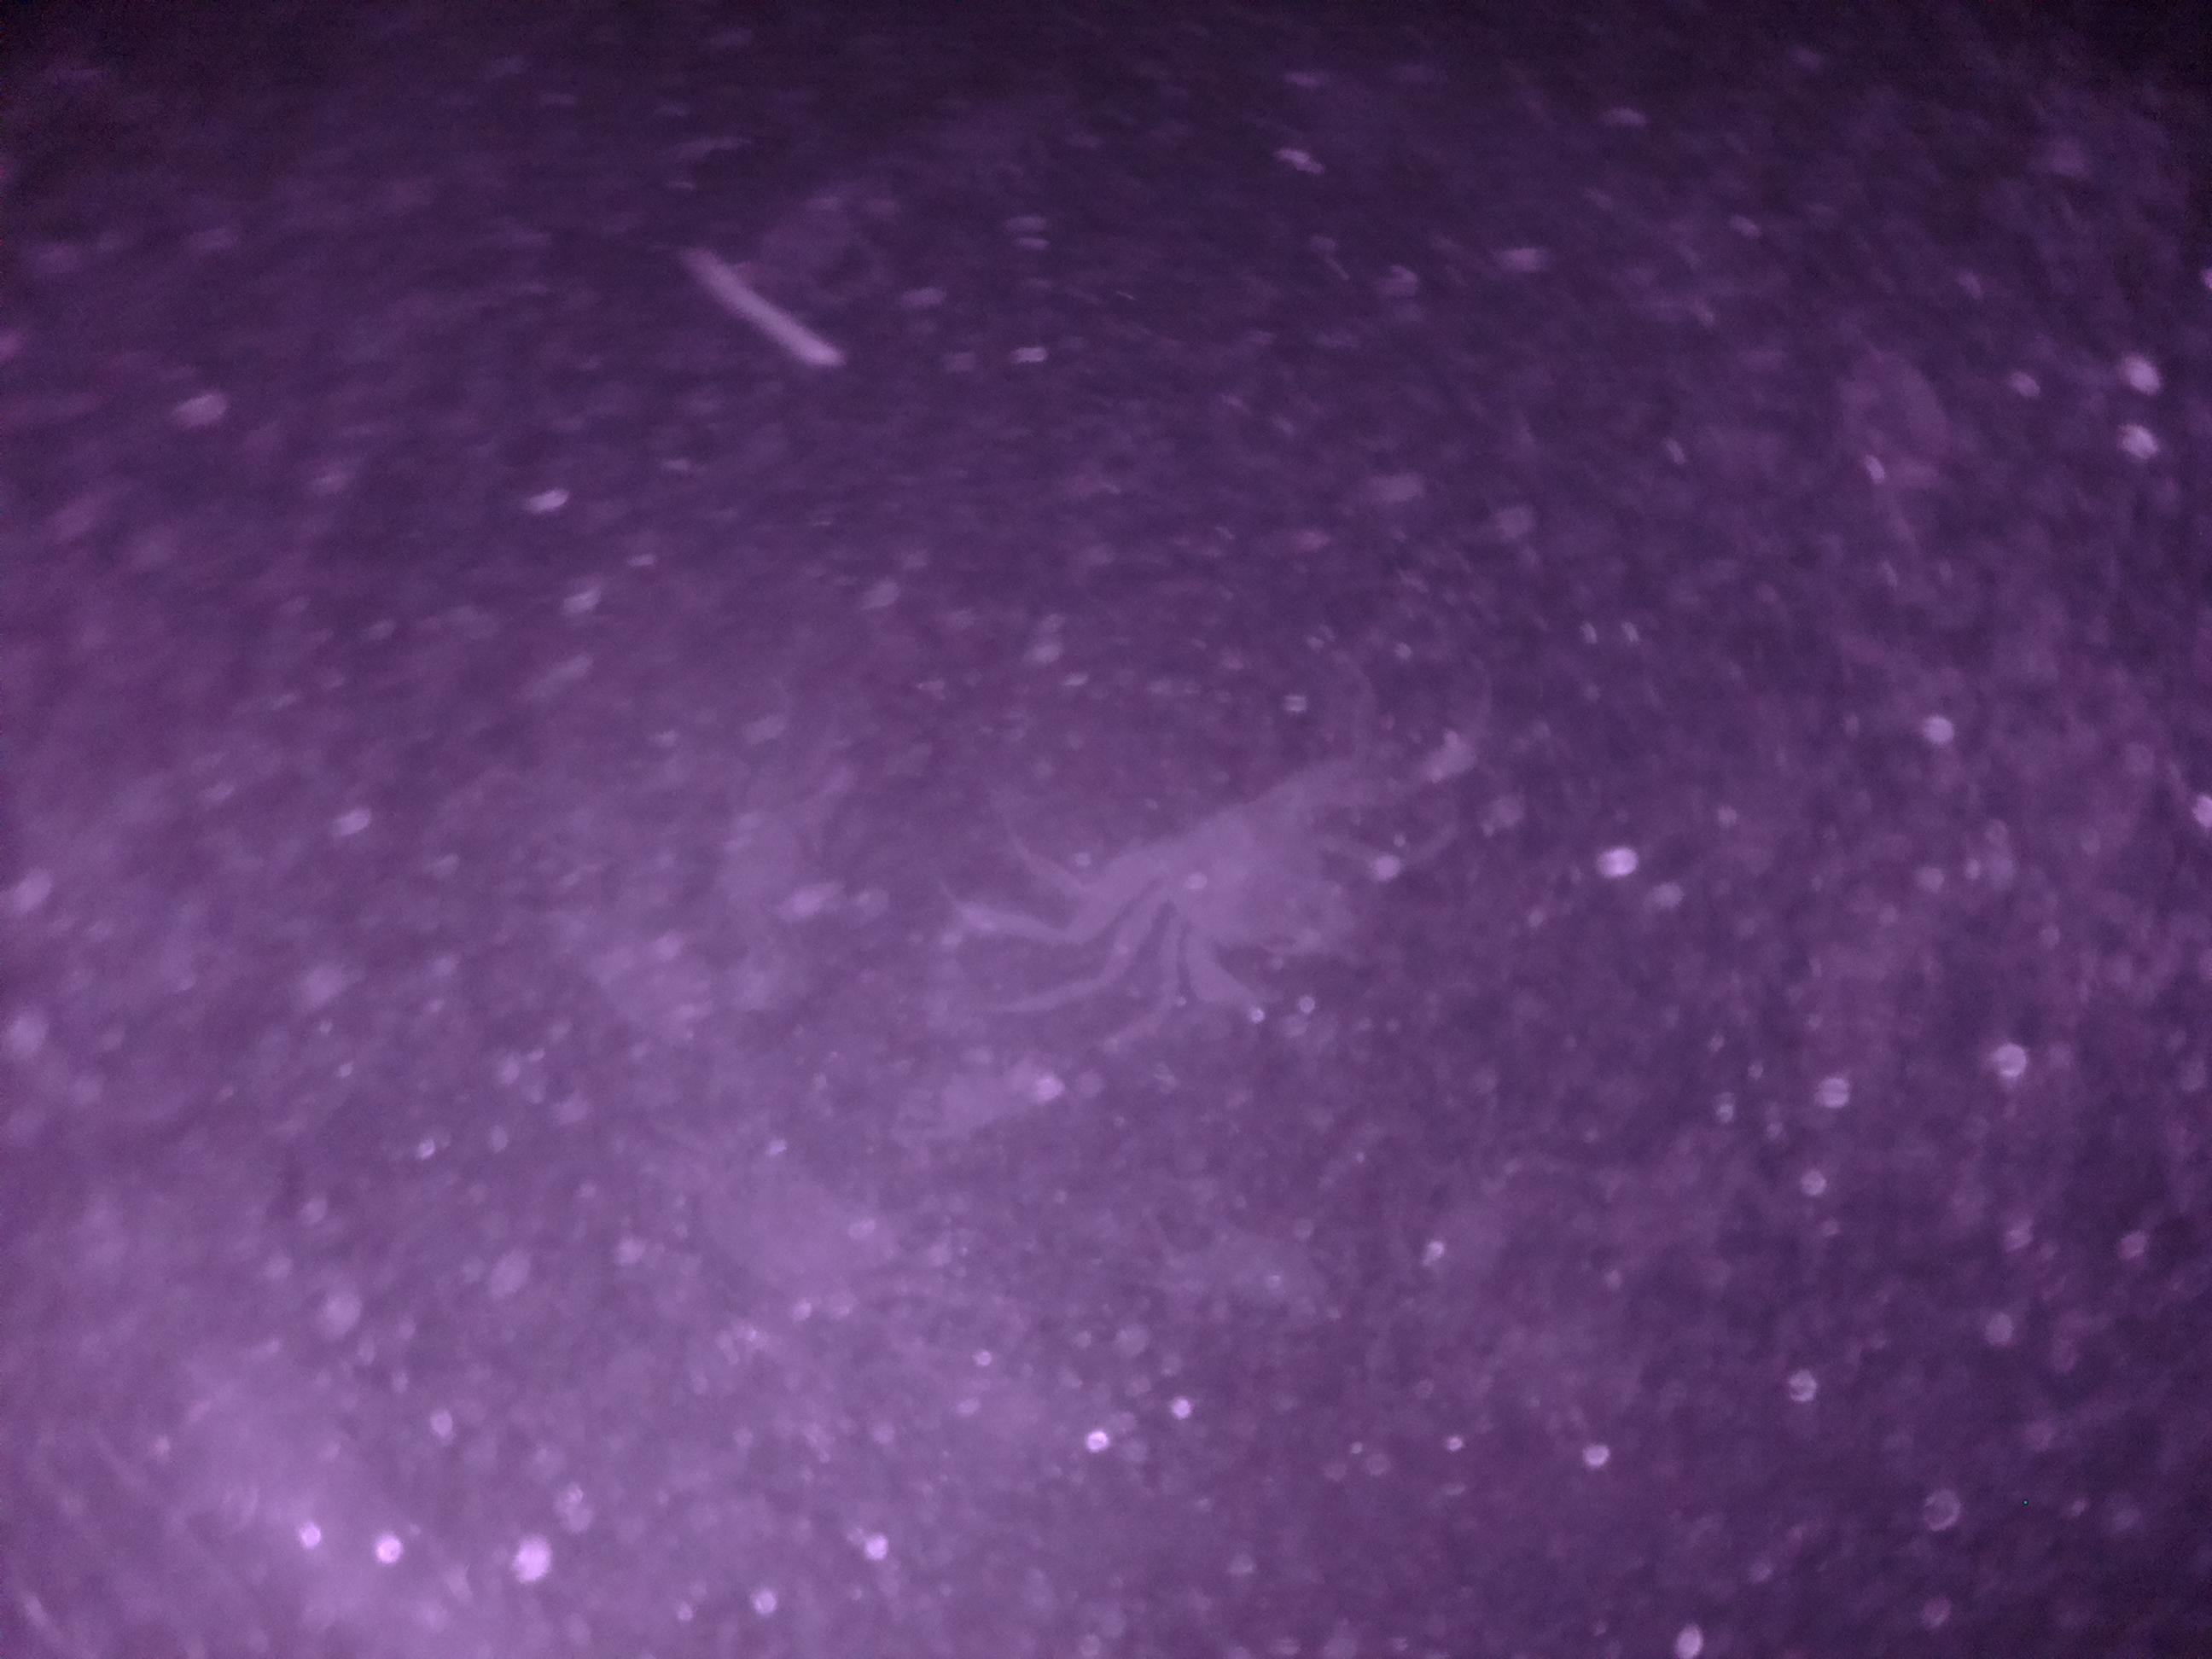Crab: (1109, 762, 1407, 1039)
